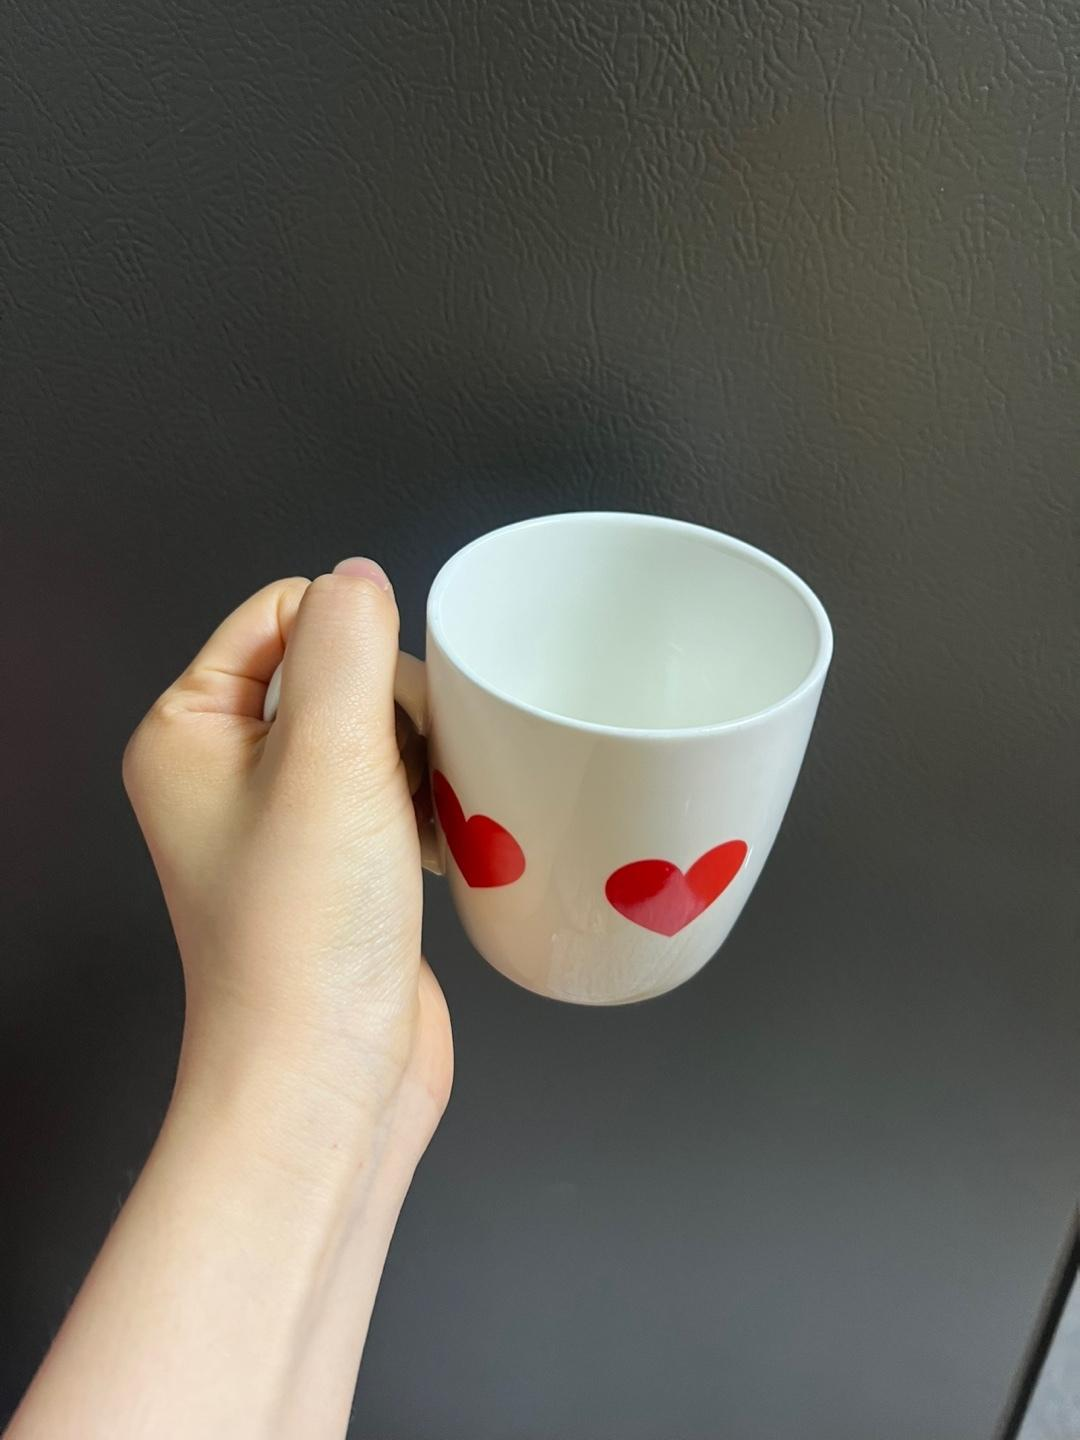cup: (113, 506, 842, 1194)
